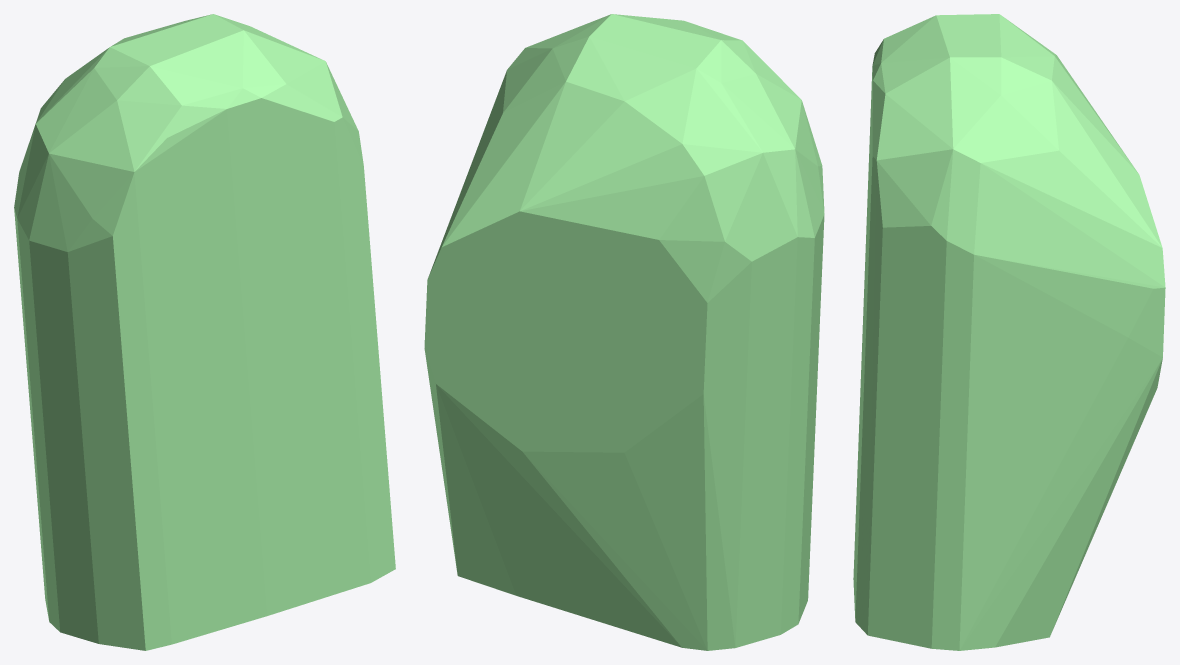
File: dvkr_robot_R_link5_respondable_coll_4.dae
3 views of the same model, side by side, from view 1: azimuth 30°, elevation 25°; view 2: azimuth 150°, elevation 25°; view 3: azimuth 270°, elevation 25° (orthographic). The views are drawn at different scales.
Visible parts, largest first — view 1: Node_0000023515112AF0; view 2: Node_0000023515112AF0; view 3: Node_0000023515112AF0.
Part boxes in pixels (x1=…): Node_0000023515112AF0: x1=14, y1=14, x2=395, y2=650; Node_0000023515112AF0: x1=424, y1=14, x2=824, y2=650; Node_0000023515112AF0: x1=853, y1=14, x2=1165, y2=650.
Bounding box in the file's own units: 0.0935 × 0.1433 × 0.074.
